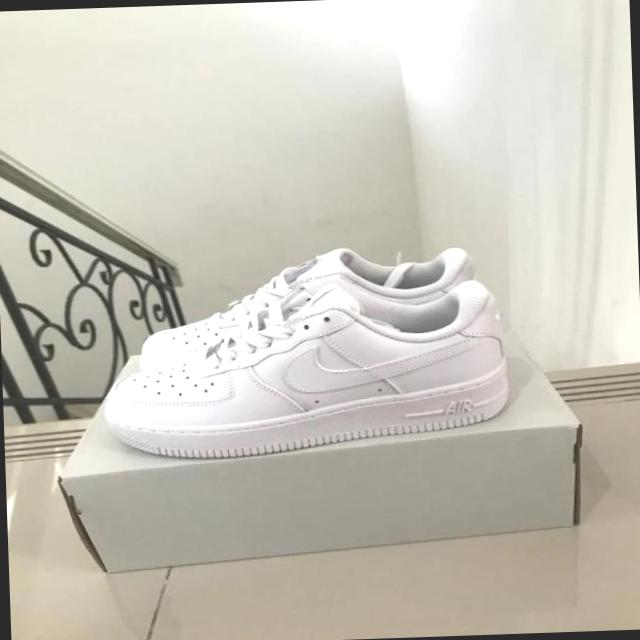nike_original_airforce: (89, 263, 518, 467), (136, 242, 488, 358)
